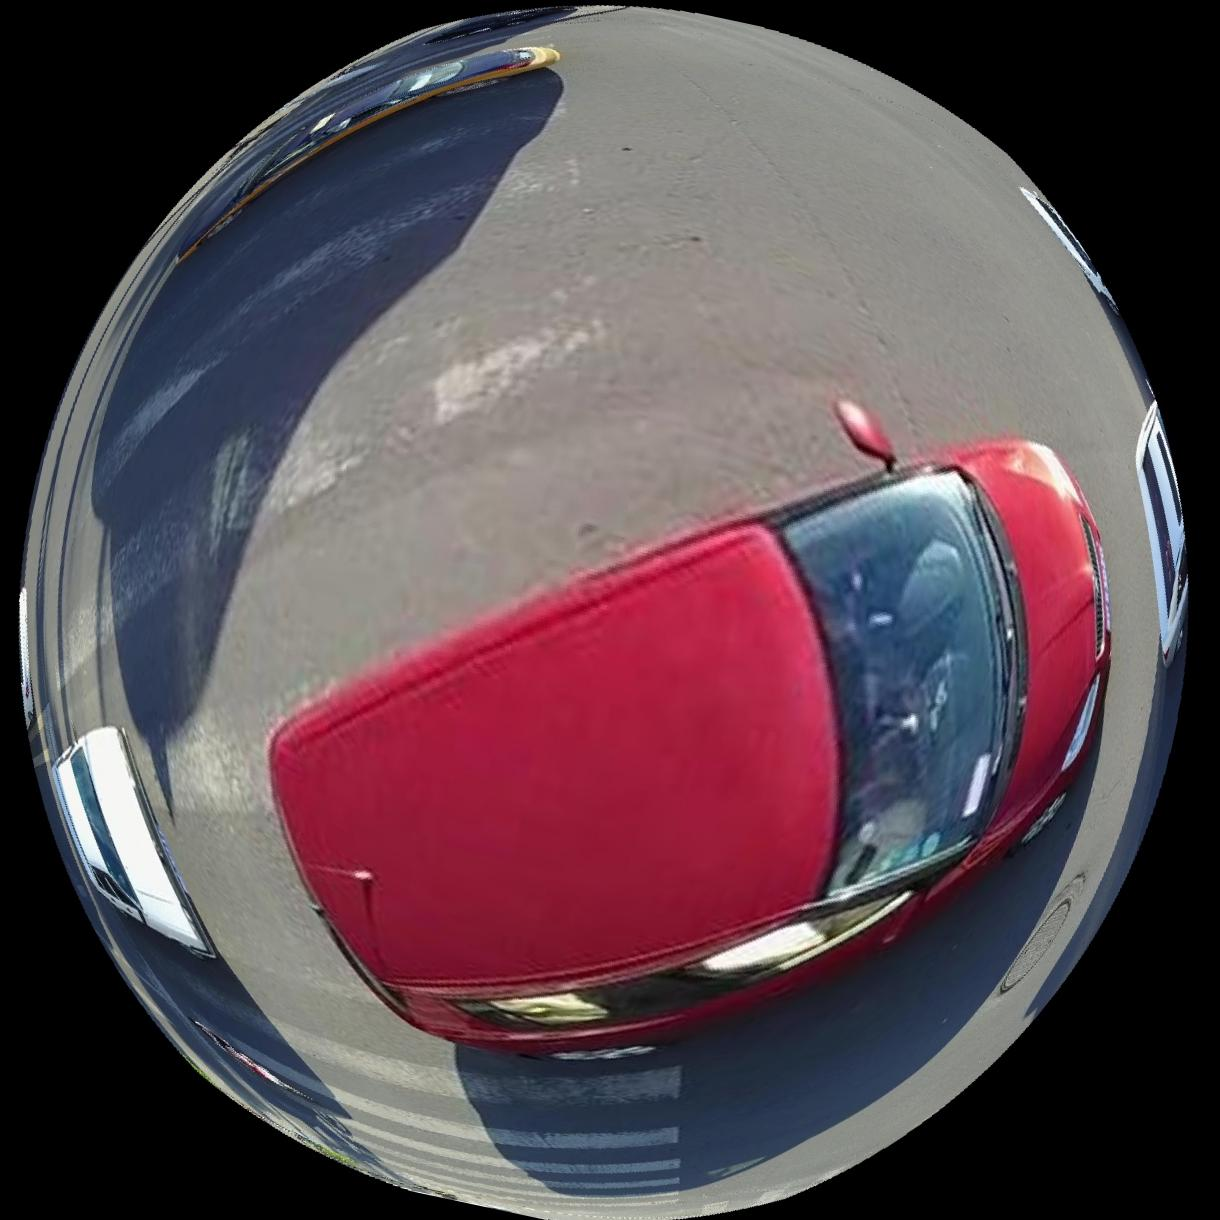cars: (270, 437, 1113, 1057), (52, 725, 212, 956), (1138, 400, 1192, 664)
